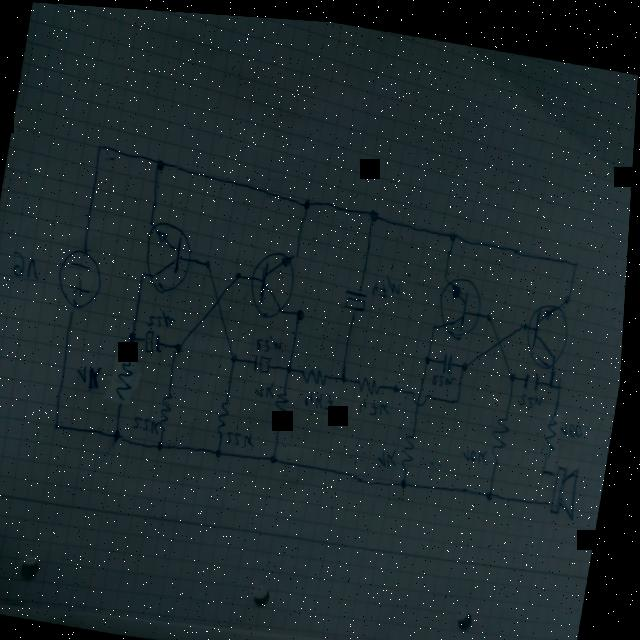capacitor: (345, 283, 372, 308), (145, 326, 166, 353), (255, 347, 276, 370), (525, 363, 544, 387), (443, 344, 459, 369)
crossover: (413, 383, 433, 401), (213, 287, 229, 309), (494, 324, 510, 345)
junction: (302, 192, 315, 208), (369, 202, 382, 218), (298, 303, 310, 317), (156, 155, 168, 169), (393, 375, 405, 389), (341, 367, 353, 380), (450, 223, 461, 237), (427, 345, 437, 360), (403, 471, 415, 483), (462, 355, 474, 367), (131, 328, 141, 342), (218, 443, 228, 457), (273, 448, 283, 462), (565, 284, 576, 296), (116, 426, 126, 439), (233, 348, 243, 361), (287, 358, 297, 371), (236, 266, 246, 279), (97, 138, 106, 152), (490, 481, 499, 495), (443, 263, 454, 274), (522, 313, 533, 324), (177, 339, 187, 351), (573, 251, 583, 263), (206, 254, 215, 267), (512, 364, 521, 377), (149, 213, 159, 224), (456, 388, 466, 399), (544, 458, 554, 469), (295, 243, 304, 255), (488, 304, 497, 316), (559, 373, 568, 385), (57, 419, 66, 430), (161, 437, 170, 448), (550, 373, 560, 382), (433, 316, 442, 325), (142, 266, 149, 276), (554, 361, 561, 370)
resistor: (492, 405, 517, 459), (117, 357, 141, 402), (275, 384, 297, 424), (301, 360, 333, 385), (405, 426, 423, 468), (546, 405, 565, 443), (161, 390, 179, 430), (218, 395, 236, 433), (360, 369, 387, 391)
source: (55, 244, 110, 310)
text: (12, 249, 46, 280), (373, 265, 406, 296), (78, 361, 107, 390), (307, 383, 341, 407), (362, 390, 396, 413), (149, 305, 180, 329), (228, 425, 262, 446), (379, 439, 405, 465), (465, 438, 497, 459), (136, 413, 167, 433), (257, 329, 286, 350), (521, 383, 550, 403), (257, 373, 281, 397), (434, 365, 463, 384), (562, 412, 589, 432)
transistor: (141, 215, 200, 295), (248, 243, 302, 319), (523, 291, 576, 365), (436, 267, 489, 337)
